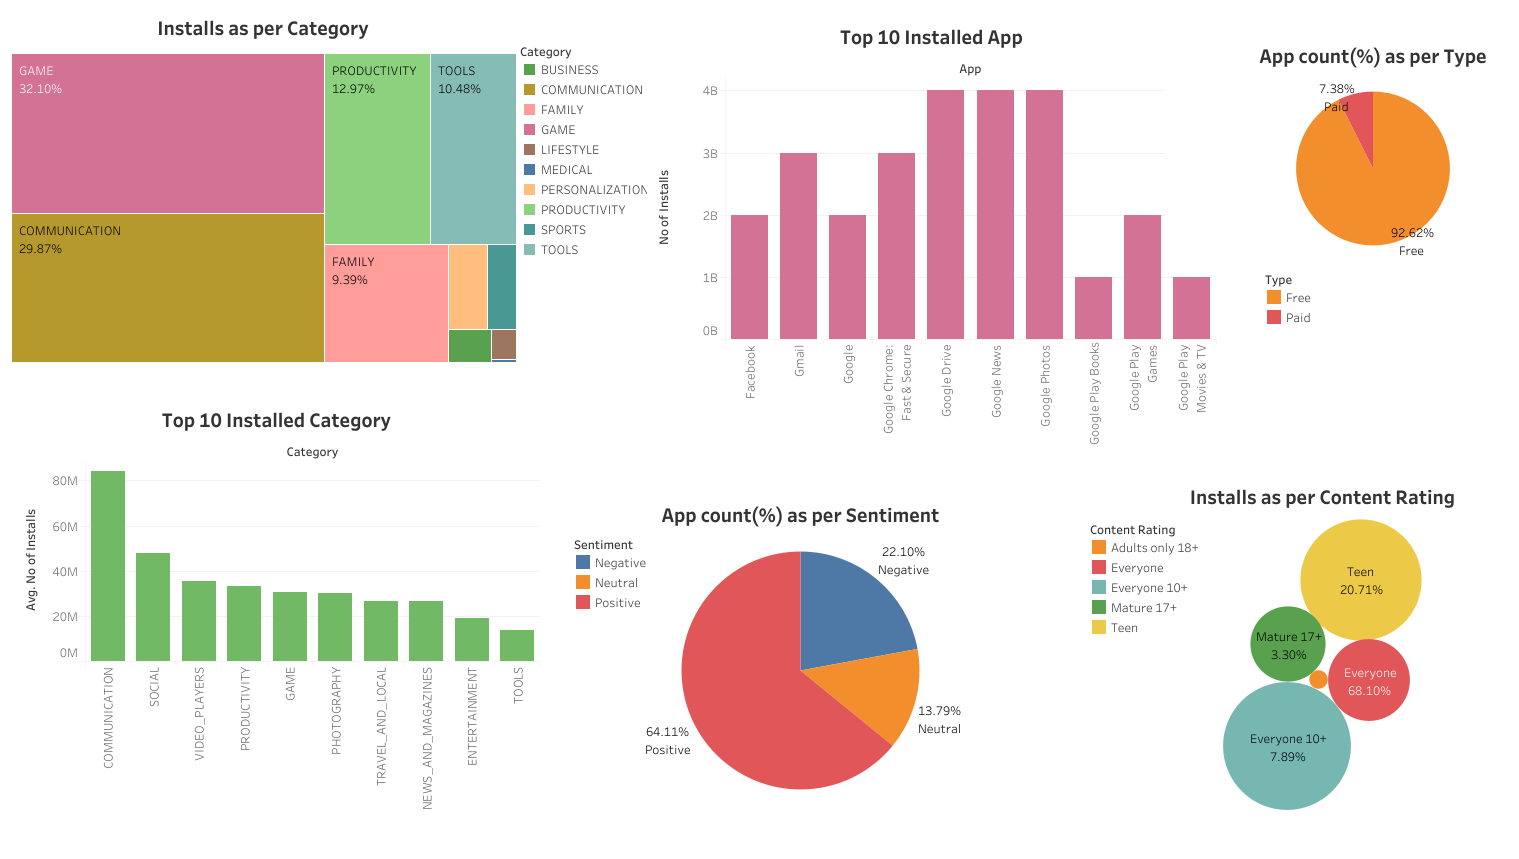

This screenshot's page, from the dashboard's own definition file:
{"tool":"powerbi","page":{"name":"Page 1","canvas":[1280,720],"ordinal":0},"visuals":[{"type":"image","box":[0,0,1280.5,720],"z":0}]}

Visuals, with their boxes in screenshot pixels (x1, y1, x2, y2), scaled from the page's 1280x720 canvas onto the 1519x859 screenshot:
image: [0, 0, 1518, 858]
